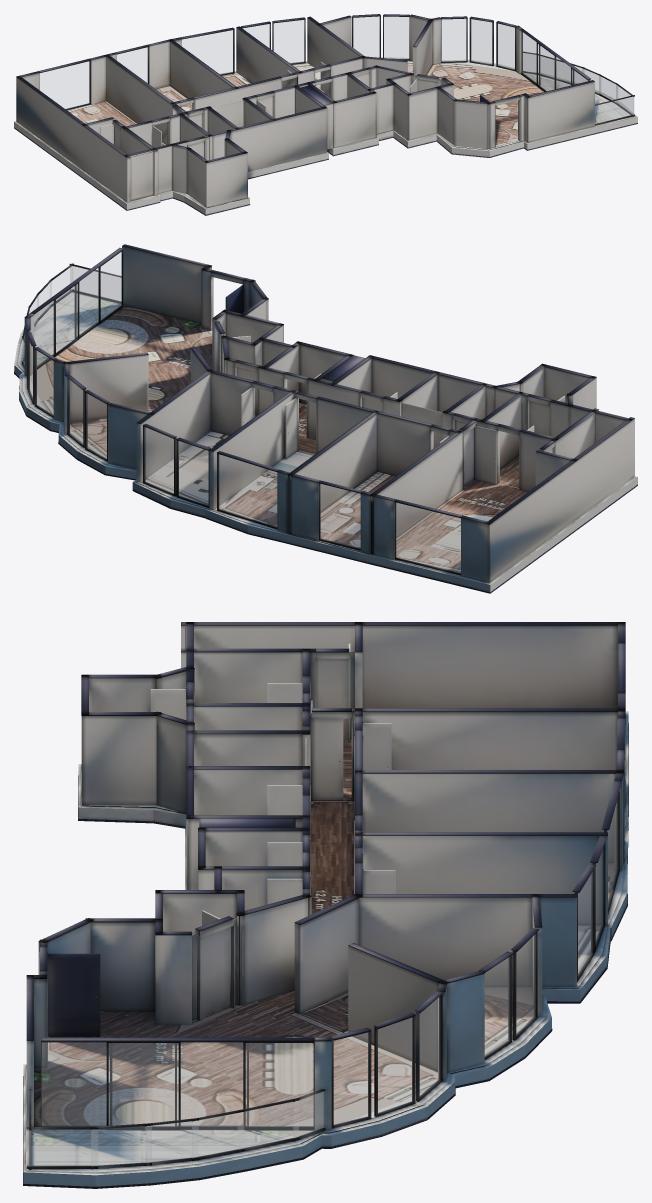
The picture shows the model from 3 angles, top to bottom: view 1: azimuth 30°, elevation 25°; view 2: azimuth 150°, elevation 25°; view 3: azimuth 270°, elevation 25°; orthographic projection. The views are drawn at different scales.
Visible parts, largest first — view 1: plan, glass10_m, glass0_m, glass2_m, glass4_m, glass7_m, glass6_m, glass5_m, glass8_m, railg6_m, glass9_m, glass1_m (+3 smaller); view 2: plan, glass10_m, glass0_m, glass2_m, glass1_m, glass3_m, glass4_m, glass5_m, glass7_m, railg6_m, glass6_m; view 3: plan, glass10_m, glass9_m, glass8_m, railg5_m, railg4_m, railg1_m, glass6_m, railg3_m, railg2_m, glass7_m, glass5_m (+2 smaller).
Part boxes in pixels (<box>): plan: <box>14,14,637,215</box>; glass10_m: <box>521,32,587,90</box>; glass0_m: <box>40,61,89,108</box>; glass2_m: <box>182,30,232,74</box>; glass4_m: <box>274,20,304,63</box>; glass7_m: <box>442,19,466,61</box>; glass6_m: <box>384,17,408,58</box>; glass5_m: <box>353,16,379,57</box>; glass8_m: <box>471,19,491,64</box>; railg6_m: <box>595,97,634,123</box>; glass9_m: <box>498,24,514,69</box>; glass1_m: <box>117,47,147,82</box>; plan: <box>14,244,637,593</box>; glass10_m: <box>34,252,121,366</box>; glass0_m: <box>396,503,460,573</box>; glass2_m: <box>219,454,276,526</box>; glass1_m: <box>320,484,360,548</box>; glass3_m: <box>178,441,208,505</box>; glass4_m: <box>145,427,173,493</box>; glass5_m: <box>87,394,106,458</box>; glass7_m: <box>36,350,53,415</box>; railg6_m: <box>70,266,120,300</box>; glass6_m: <box>69,379,82,444</box>; plan: <box>23,622,628,1188</box>; glass10_m: <box>41,1042,313,1126</box>; glass9_m: <box>334,1032,368,1124</box>; glass8_m: <box>378,1017,412,1113</box>; railg5_m: <box>27,1129,97,1165</box>; railg4_m: <box>91,1126,151,1165</box>; railg1_m: <box>238,1101,298,1149</box>; glass6_m: <box>485,957,509,1056</box>; railg3_m: <box>145,1121,198,1162</box>; railg2_m: <box>192,1112,243,1157</box>; glass7_m: <box>420,997,439,1096</box>; glass5_m: <box>516,934,535,1034</box>.
Bounding box in the file's own units: 25.06 × 2.62 × 13.82.
Materials: 2 (1 with a texture image).
